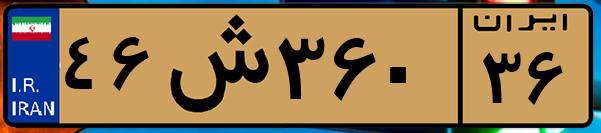0: (385, 28, 445, 110)
3: (270, 28, 330, 110), (475, 38, 525, 113)
4: (57, 26, 110, 100)
6: (330, 28, 385, 110), (525, 38, 570, 115), (110, 28, 158, 98)
ش: (158, 12, 270, 120)
